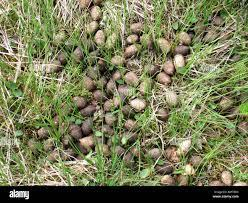Elk: (76, 74, 163, 153), (78, 1, 110, 51), (29, 126, 81, 154), (162, 36, 189, 73), (128, 23, 147, 72)
